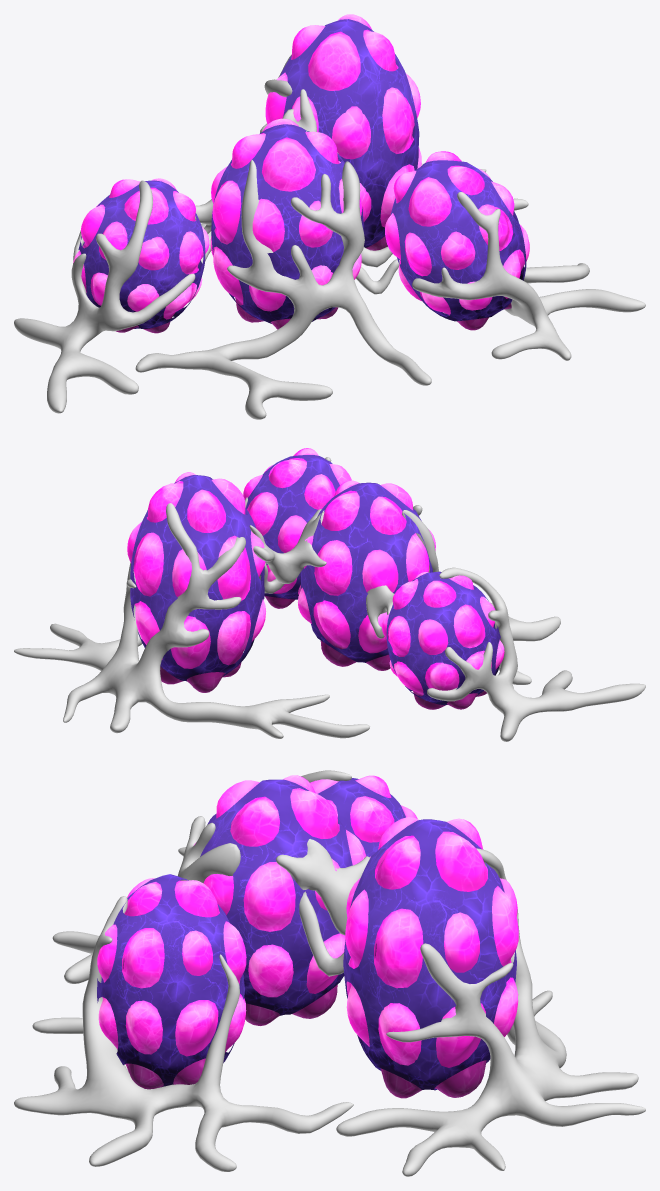
File: ovo_gosma.fbx
3 views of the same model, one above another, from view 1: azimuth 30°, elevation 25°; view 2: azimuth 150°, elevation 25°; view 3: azimuth 270°, elevation 25° (orthographic). The views are drawn at different scales.
Visible parts, largest first — view 1: gosma, ovo_3.002, ovo_3, ovo_3.003, ovo_3.001; view 2: gosma, ovo_3.002, ovo_3, ovo_3.001, ovo_3.003; view 3: gosma, ovo_3.002, ovo_3.003, ovo_3, ovo_3.001.
Boxes of the visible parts, box(x1,y1,x2,y2) form: gosma: box(14, 55, 645, 419); ovo_3.002: box(265, 14, 421, 250); ovo_3: box(210, 118, 363, 329); ovo_3.003: box(385, 151, 529, 330); ovo_3.001: box(73, 178, 209, 333); gosma: box(14, 457, 645, 741); ovo_3.002: box(127, 472, 265, 692); ovo_3: box(297, 480, 435, 670); ovo_3.001: box(382, 571, 504, 709); ovo_3.003: box(243, 448, 351, 608); gosma: box(14, 770, 645, 1176); ovo_3.002: box(343, 817, 518, 1098); ovo_3.003: box(97, 874, 246, 1089); ovo_3: box(193, 775, 366, 1025); ovo_3.001: box(310, 775, 417, 857).
Bounding box in the file's own units: 723 × 279 × 596.
